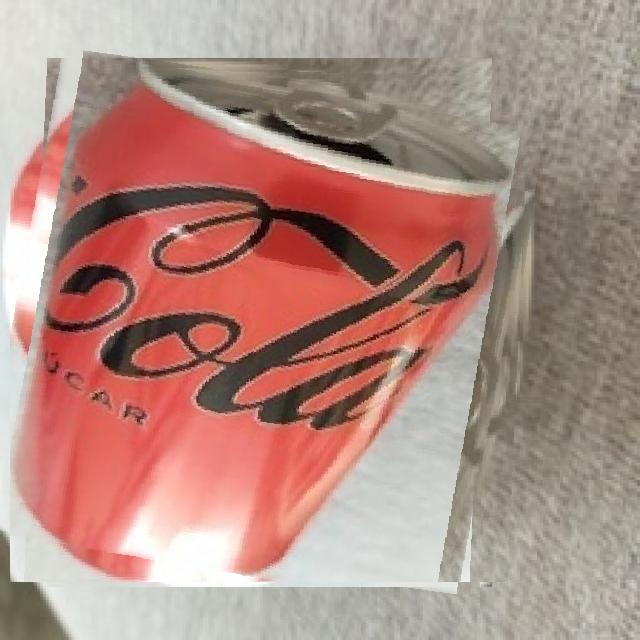recyclable: (10, 63, 530, 582)
